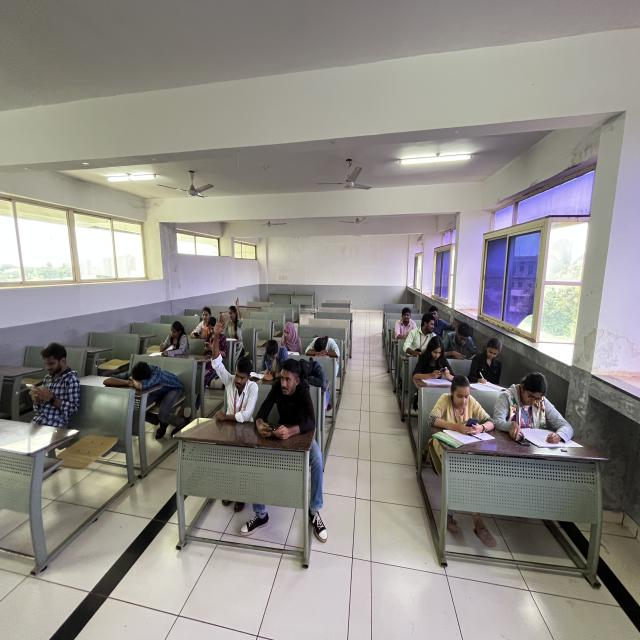Hand Rising: (204, 307, 260, 421)
Sleeping: (304, 333, 345, 366)
Using Phone: (21, 342, 87, 433), (425, 370, 497, 443), (410, 334, 455, 384)
Writing: (468, 337, 504, 391), (157, 321, 190, 362)
